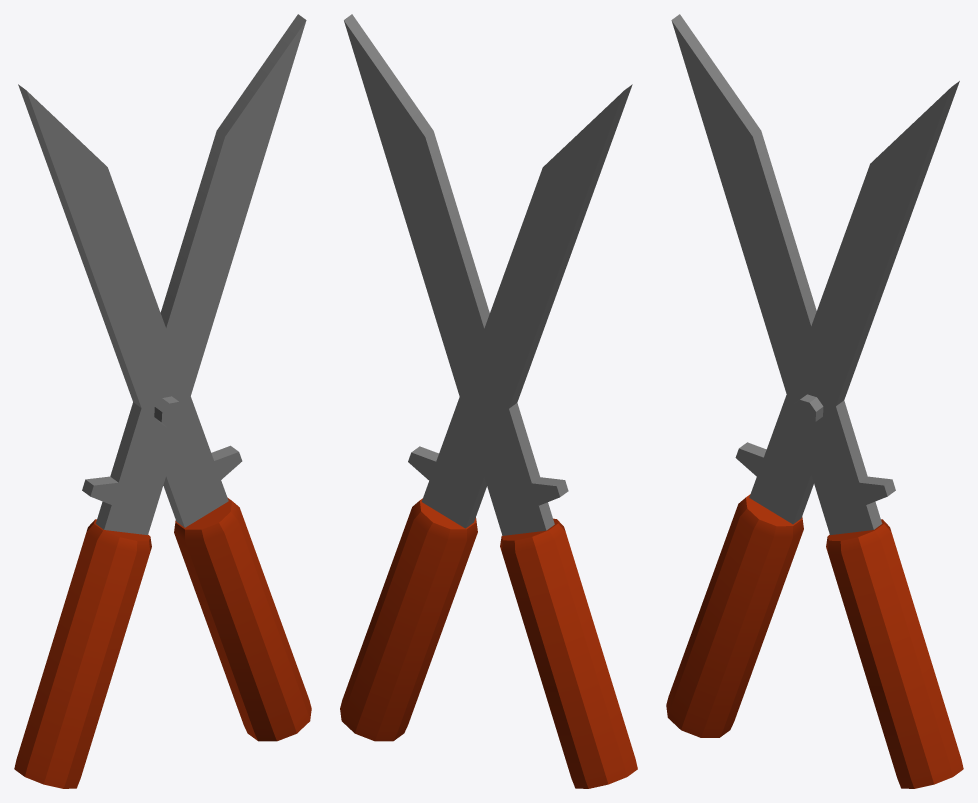
The model's file is TesouraDePoda.fbx.
The picture shows the model from 3 angles, left to right: view 1: azimuth 30°, elevation 25°; view 2: azimuth 150°, elevation 25°; view 3: azimuth 330°, elevation 25°; orthographic projection.
Parts seen in each view (by area): view 1: TesouraDePoda; view 2: TesouraDePoda; view 3: TesouraDePoda.
Boxes of the visible parts, bbox=[...] form: TesouraDePoda: bbox=[14, 14, 311, 788]; TesouraDePoda: bbox=[340, 14, 637, 788]; TesouraDePoda: bbox=[666, 14, 963, 788].
Bounding box in the file's own units: 13.55 × 31.94 × 2.88.
Materials: 1 (1 with a texture image).
